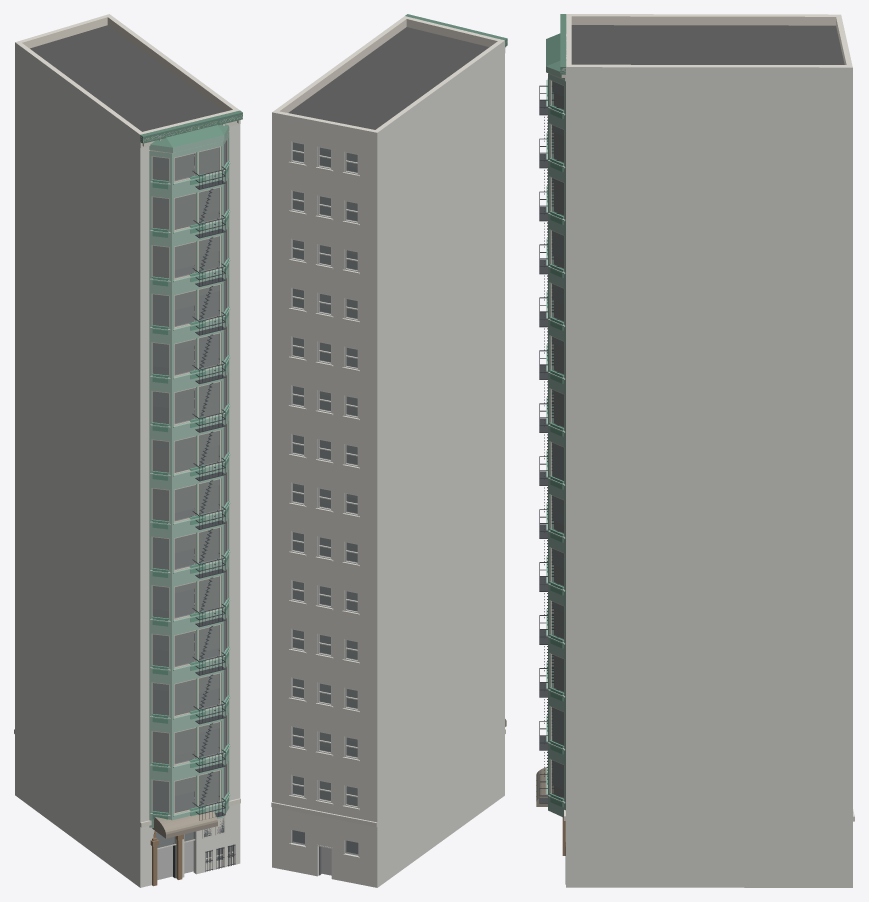
File: exterior.glb
3 views of the same model, side by side, from view 1: azimuth 30°, elevation 25°; view 2: azimuth 150°, elevation 25°; view 3: azimuth 270°, elevation 25° (orthographic). The views are drawn at different scales.
Parts seen in each view (by area): view 1: shell, bay-glazing, bay-windows, roof, fire-escape, bay-windows-crown, relief-0, shadow-proxy, awning-barrel-0, storefront, glazing, trim; view 2: shell, roof, glazing, frames, trim, shadow-proxy; view 3: shell, roof, bay-windows, bay-glazing, fire-escape, bay-windows-crown.
Boxes of the visible parts, x1=… form: shell: x1=15, y1=14, x2=240, y2=887; bay-glazing: x1=151, y1=139, x2=227, y2=814; bay-windows: x1=149, y1=126, x2=230, y2=827; roof: x1=30, y1=25, x2=224, y2=131; fire-escape: x1=192, y1=166, x2=225, y2=820; bay-windows-crown: x1=150, y1=124, x2=229, y2=819; relief-0: x1=140, y1=110, x2=242, y2=886; shadow-proxy: x1=150, y1=142, x2=229, y2=879; awning-barrel-0: x1=152, y1=804, x2=217, y2=838; storefront: x1=156, y1=832, x2=235, y2=878; glazing: x1=155, y1=153, x2=232, y2=864; trim: x1=14, y1=114, x2=242, y2=827; shell: x1=272, y1=16, x2=504, y2=887; roof: x1=288, y1=27, x2=489, y2=129; glazing: x1=291, y1=142, x2=358, y2=855; frames: x1=291, y1=141, x2=358, y2=807; trim: x1=271, y1=46, x2=506, y2=858; shadow-proxy: x1=293, y1=549, x2=357, y2=875; shell: x1=566, y1=14, x2=852, y2=887; roof: x1=571, y1=25, x2=844, y2=64; bay-windows: x1=546, y1=66, x2=565, y2=816; bay-glazing: x1=550, y1=80, x2=564, y2=800; fire-escape: x1=539, y1=85, x2=558, y2=803; bay-windows-crown: x1=546, y1=33, x2=564, y2=817.
Bounding box in the file's own units: 7.66 × 54.71 × 19.26.
